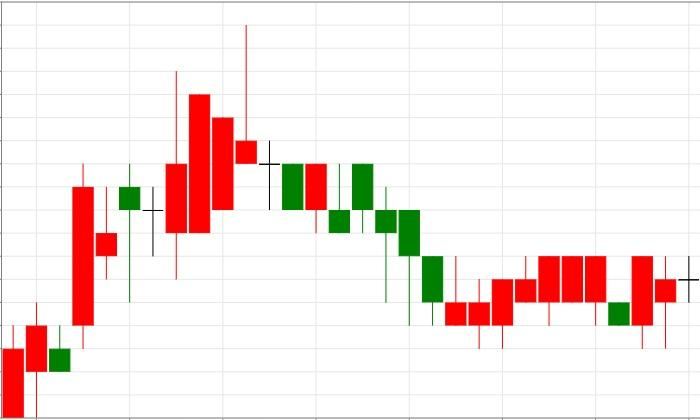bullish_engulfing_rise: (539, 256, 653, 349)
inverse_hammer_rise: (351, 164, 467, 326)
